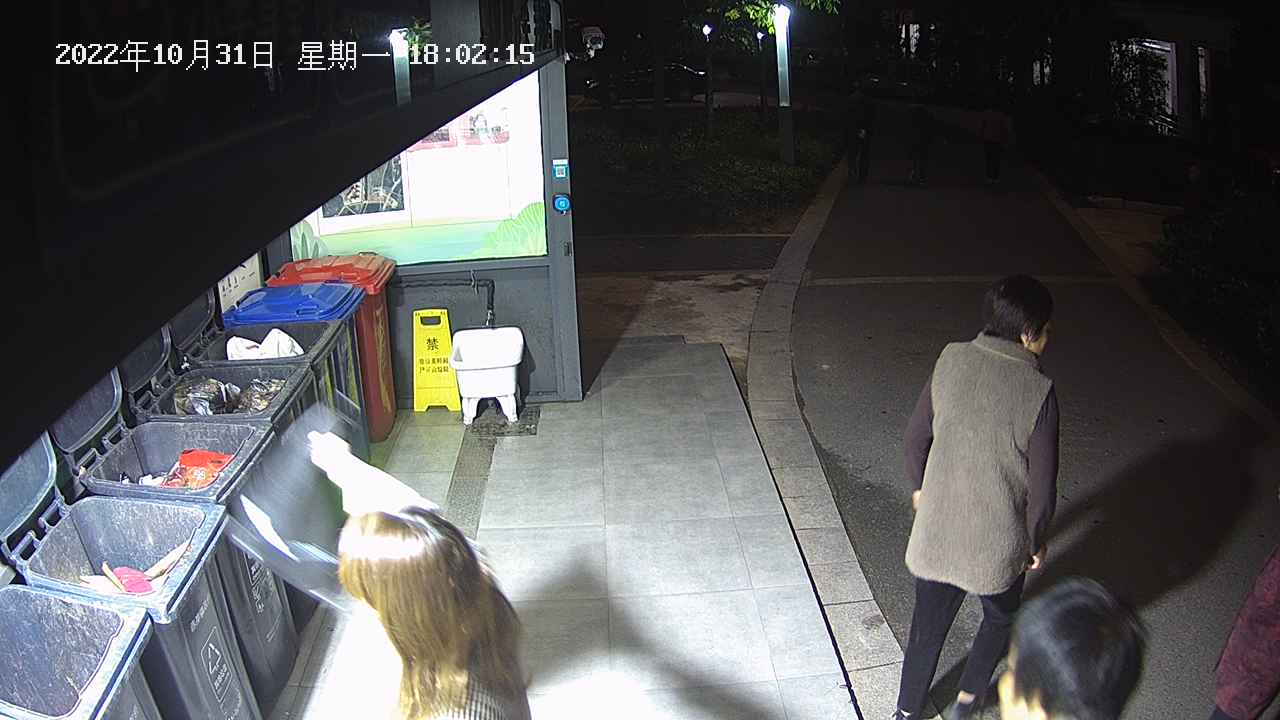person: (889, 272, 1061, 720), (307, 428, 533, 720), (996, 573, 1155, 720)
